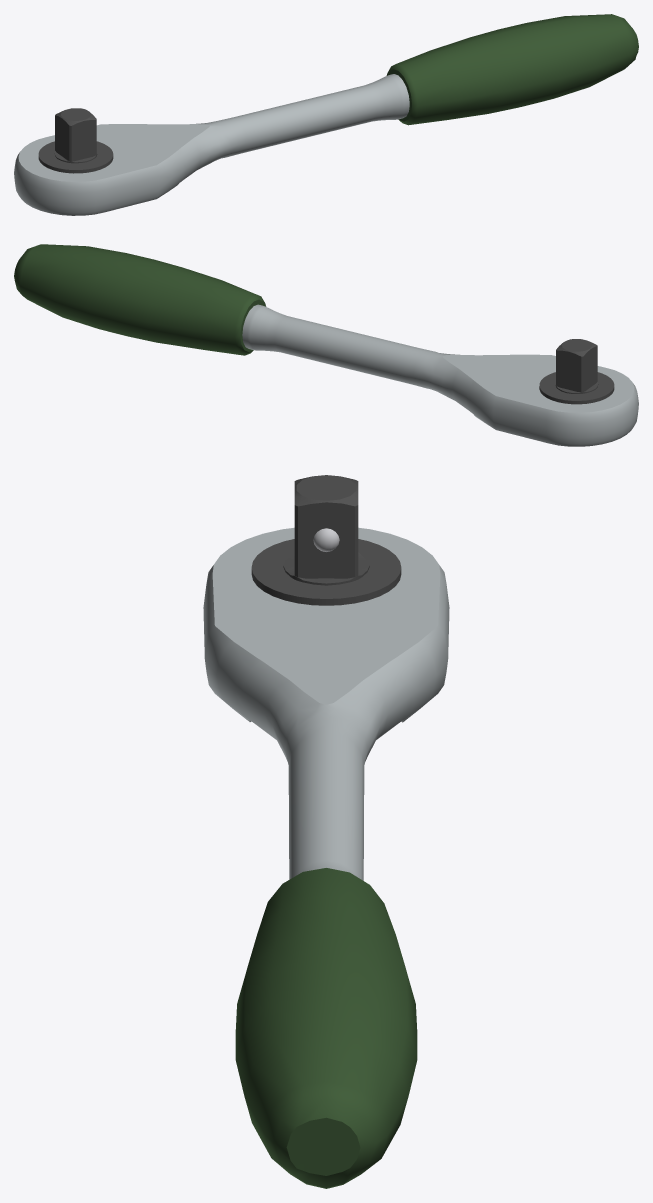
The model's file is Wrench_LP.fbx.
3 renders of one model, top to bottom at view 1: azimuth 30°, elevation 25°; view 2: azimuth 150°, elevation 25°; view 3: azimuth 270°, elevation 25°, orthographic. The views are drawn at different scales.
Visible parts, largest first — view 1: Body, Handle, Rotate_part; view 2: Body, Handle, Rotate_part; view 3: Body, Handle, Rotate_part.
Part boxes in pixels (x1,y1,x2,y2): Body: (14,74,409,215); Handle: (386,14,638,125); Rotate_part: (38,108,113,173); Body: (242,304,638,446); Handle: (14,244,266,355); Rotate_part: (539,339,614,404); Body: (203,527,449,880); Handle: (235,868,417,1188); Rotate_part: (251,475,401,605).
Bounding box in the file's own units: 321 × 48.53 × 56.25.
